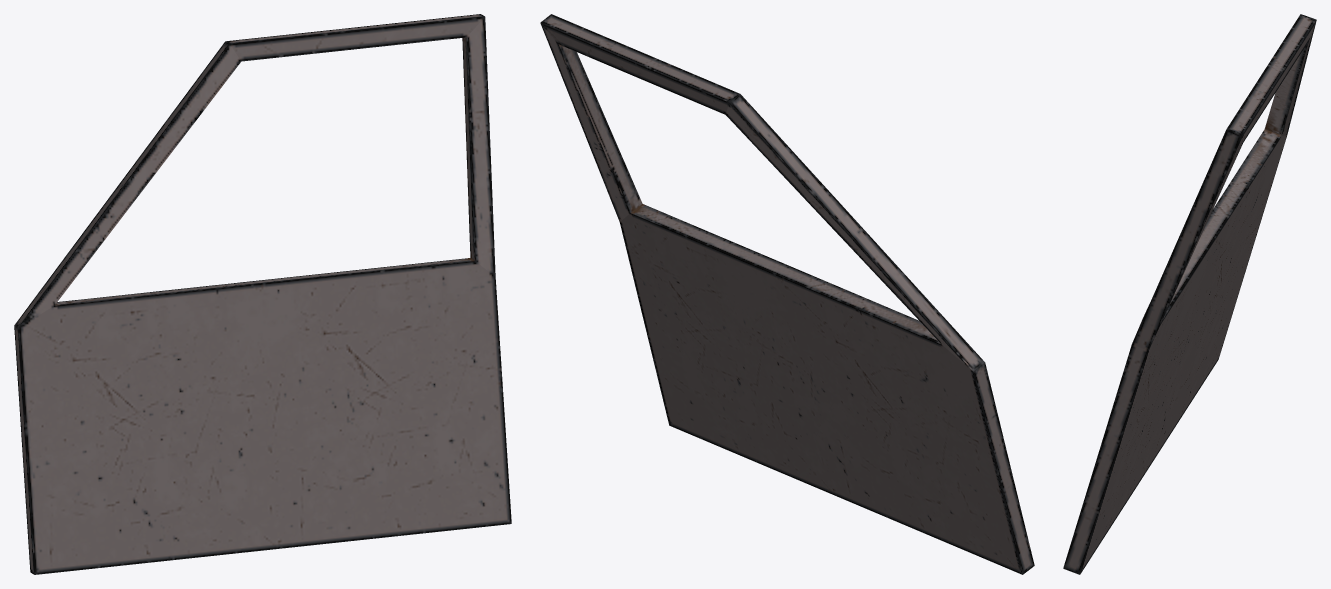
File: puerta.glb
3 views of the same model, side by side, from view 1: azimuth 30°, elevation 25°; view 2: azimuth 150°, elevation 25°; view 3: azimuth 270°, elevation 25° (orthographic). The views are drawn at different scales.
Parts seen in each view (by area): view 1: Plane.006; view 2: Plane.006; view 3: Plane.006.
Boxes of the visible parts, <box> form: Plane.006: <box>14,14,511,574</box>; Plane.006: <box>540,14,1034,574</box>; Plane.006: <box>1063,14,1316,574</box>.
Size of the model in its own units: 2.06 by 1.88 by 0.9172.
1 material, 1 textured.
